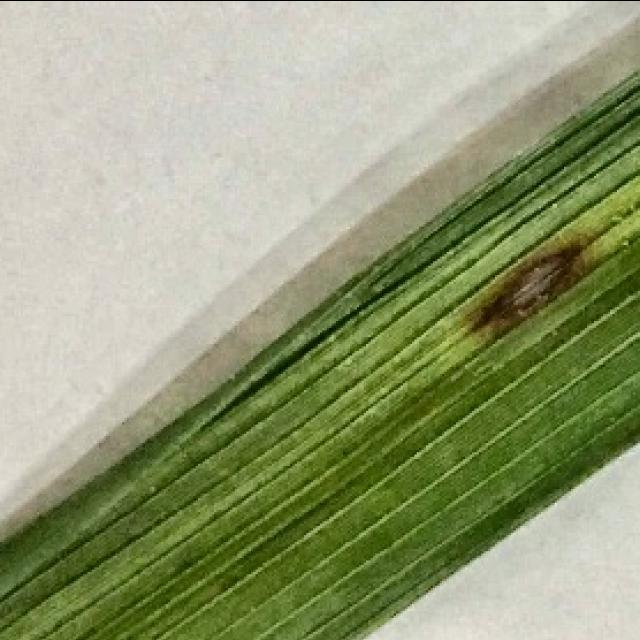Leaf_Blast: (458, 228, 596, 357)
